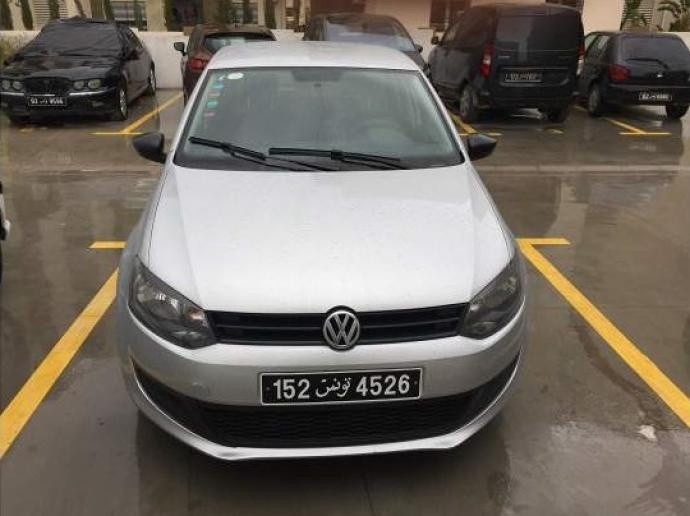LP: (258, 367, 426, 407)
